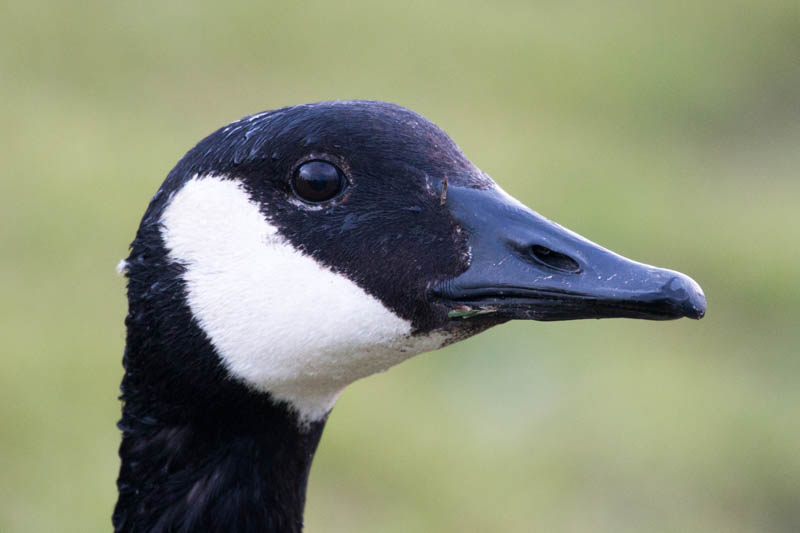goose-head: (126, 100, 708, 418)
